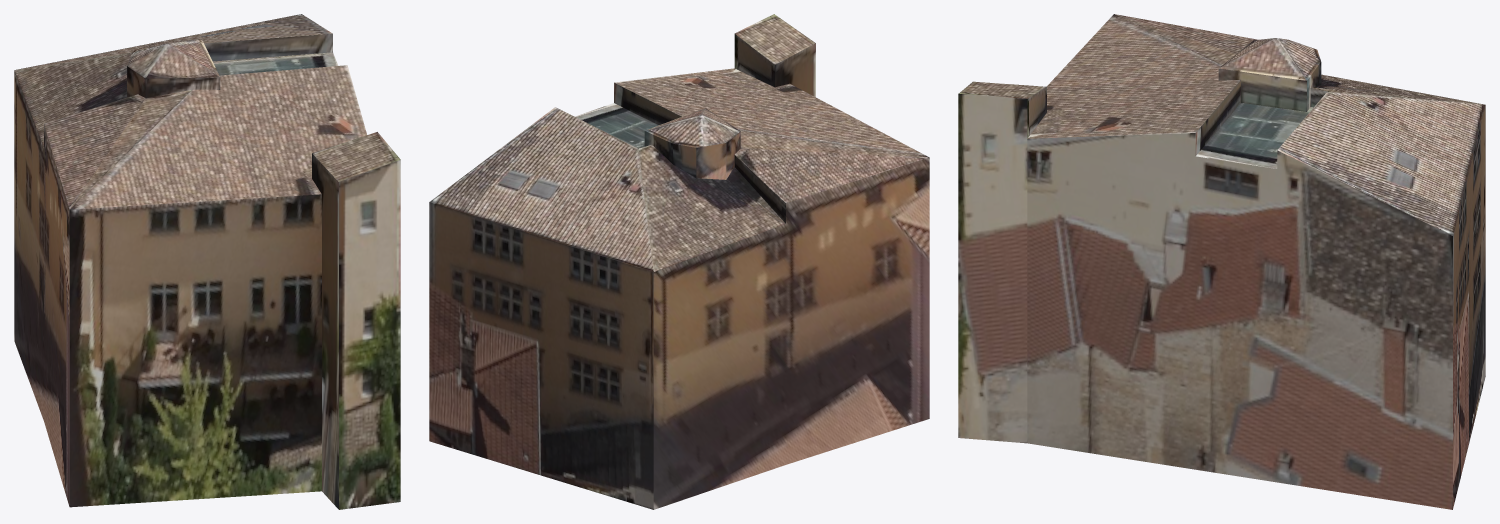
3 views of the same model, side by side, from view 1: azimuth 30°, elevation 25°; view 2: azimuth 150°, elevation 25°; view 3: azimuth 270°, elevation 25° (orthographic). The views are drawn at different scales.
Visible parts, largest first — view 1: Z_UP; view 2: Z_UP; view 3: Z_UP.
Boxes of the visible parts, x1,y1,x2,y2 form: Z_UP: [14, 14, 400, 509]; Z_UP: [429, 14, 929, 509]; Z_UP: [958, 14, 1485, 509].
Size of the model in its own units: 22.46 by 19.34 by 25.43.
Materials: 2 (1 with a texture image).
